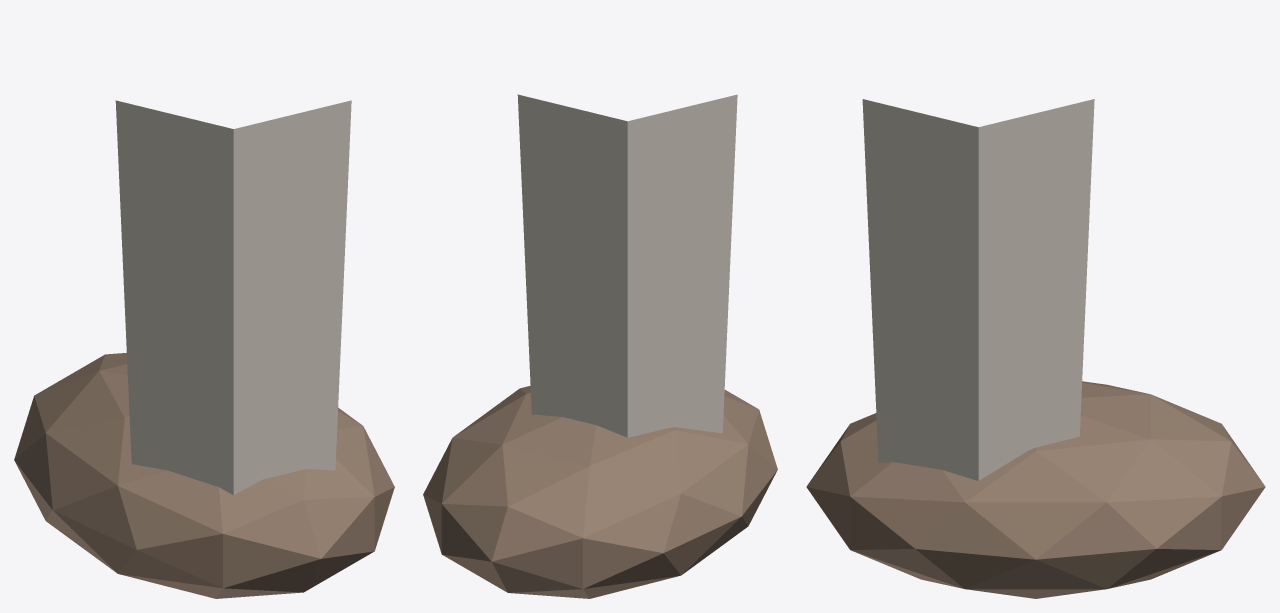
File: mushroom_leg.glb
3 views of the same model, side by side, from view 1: azimuth 30°, elevation 25°; view 2: azimuth 150°, elevation 25°; view 3: azimuth 270°, elevation 25° (orthographic). The views are drawn at different scales.
Visible parts, largest first — view 1: mushroom_leg; view 2: mushroom_leg; view 3: mushroom_leg.
Boxes of the visible parts, x1,y1,x2,y2 form: mushroom_leg: [14, 100, 394, 598]; mushroom_leg: [423, 94, 777, 598]; mushroom_leg: [806, 99, 1265, 598].
Bounding box in the file's own units: 0.09 × 0.145 × 0.12.
